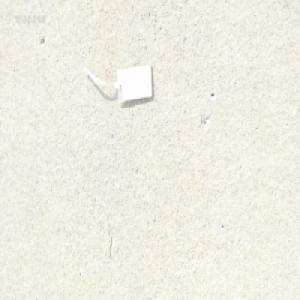LuggageTag: (82, 57, 154, 104)
